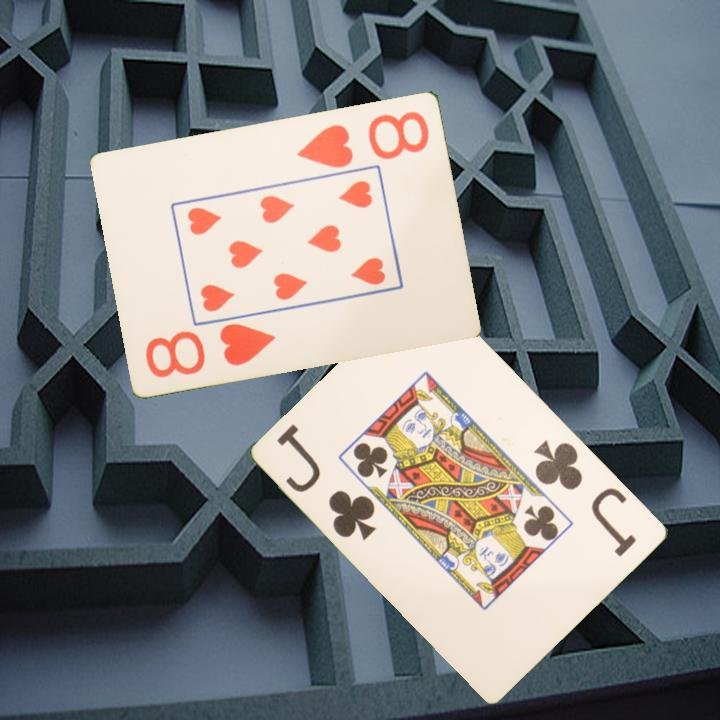8h: (293, 106, 433, 171), (142, 319, 279, 380)
Jc: (531, 436, 640, 560), (273, 420, 380, 544)
